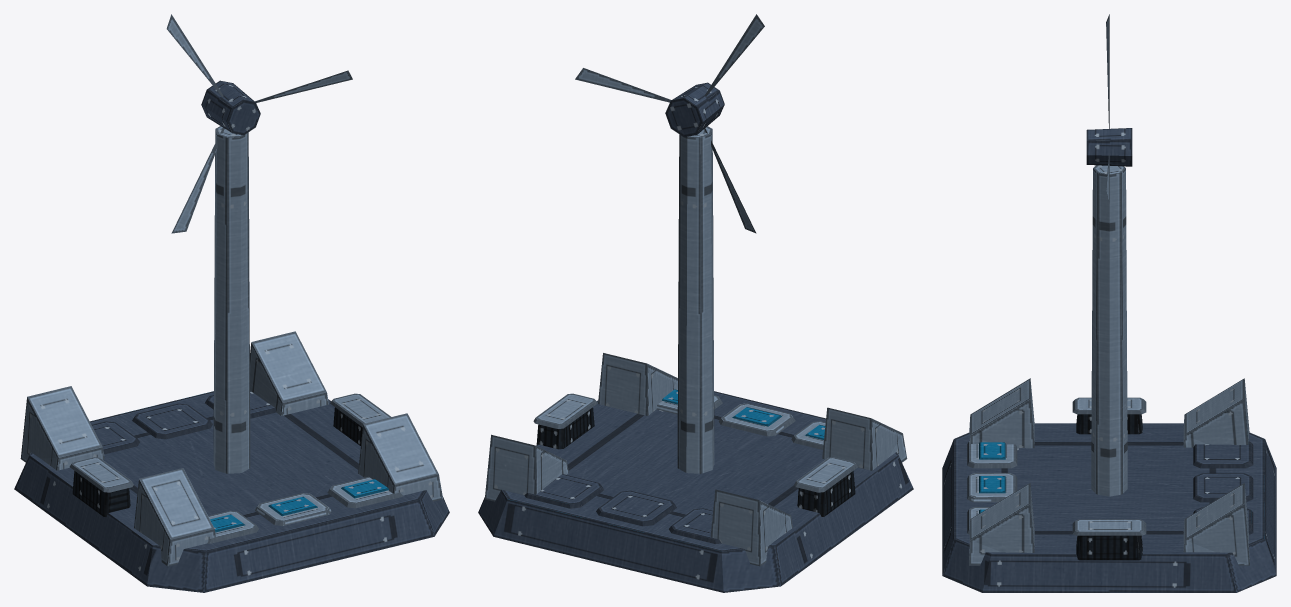
Rendered from building-wind.fbx.
3 renders of one model, left to right at view 1: azimuth 30°, elevation 25°; view 2: azimuth 150°, elevation 25°; view 3: azimuth 270°, elevation 25°, orthographic. The views are drawn at different scales.
Parts seen in each view (by area): view 1: building-wind; view 2: building-wind; view 3: building-wind.
Boxes of the visible parts, x1,y1,x2,y2 form: building-wind: [14, 14, 449, 592]; building-wind: [478, 14, 913, 592]; building-wind: [942, 14, 1276, 592].
Bounding box in the file's own units: 1456 × 2304 × 1456.
Materials: 1 (1 with a texture image).
